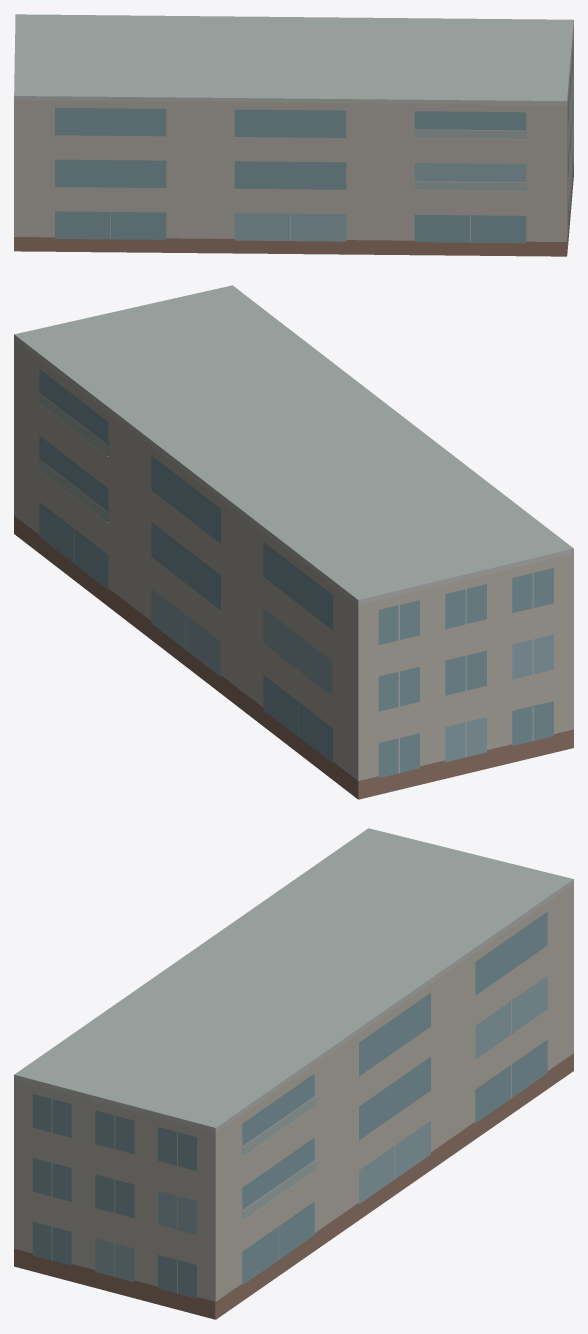
File: survey-upis-32564941.glb
3 views of the same model, one above another, from view 1: azimuth 30°, elevation 25°; view 2: azimuth 150°, elevation 25°; view 3: azimuth 270°, elevation 25° (orthographic). The views are drawn at different scales.
Parts seen in each view (by area): view 1: survey-upis-32564941.tmp; view 2: survey-upis-32564941.tmp; view 3: survey-upis-32564941.tmp.
Boxes of the visible parts, x1,y1,x2,y2 form: survey-upis-32564941.tmp: [14, 14, 573, 256]; survey-upis-32564941.tmp: [14, 285, 573, 799]; survey-upis-32564941.tmp: [14, 828, 573, 1319].
Size of the model in its own units: 30.68 by 9.15 by 24.21.
